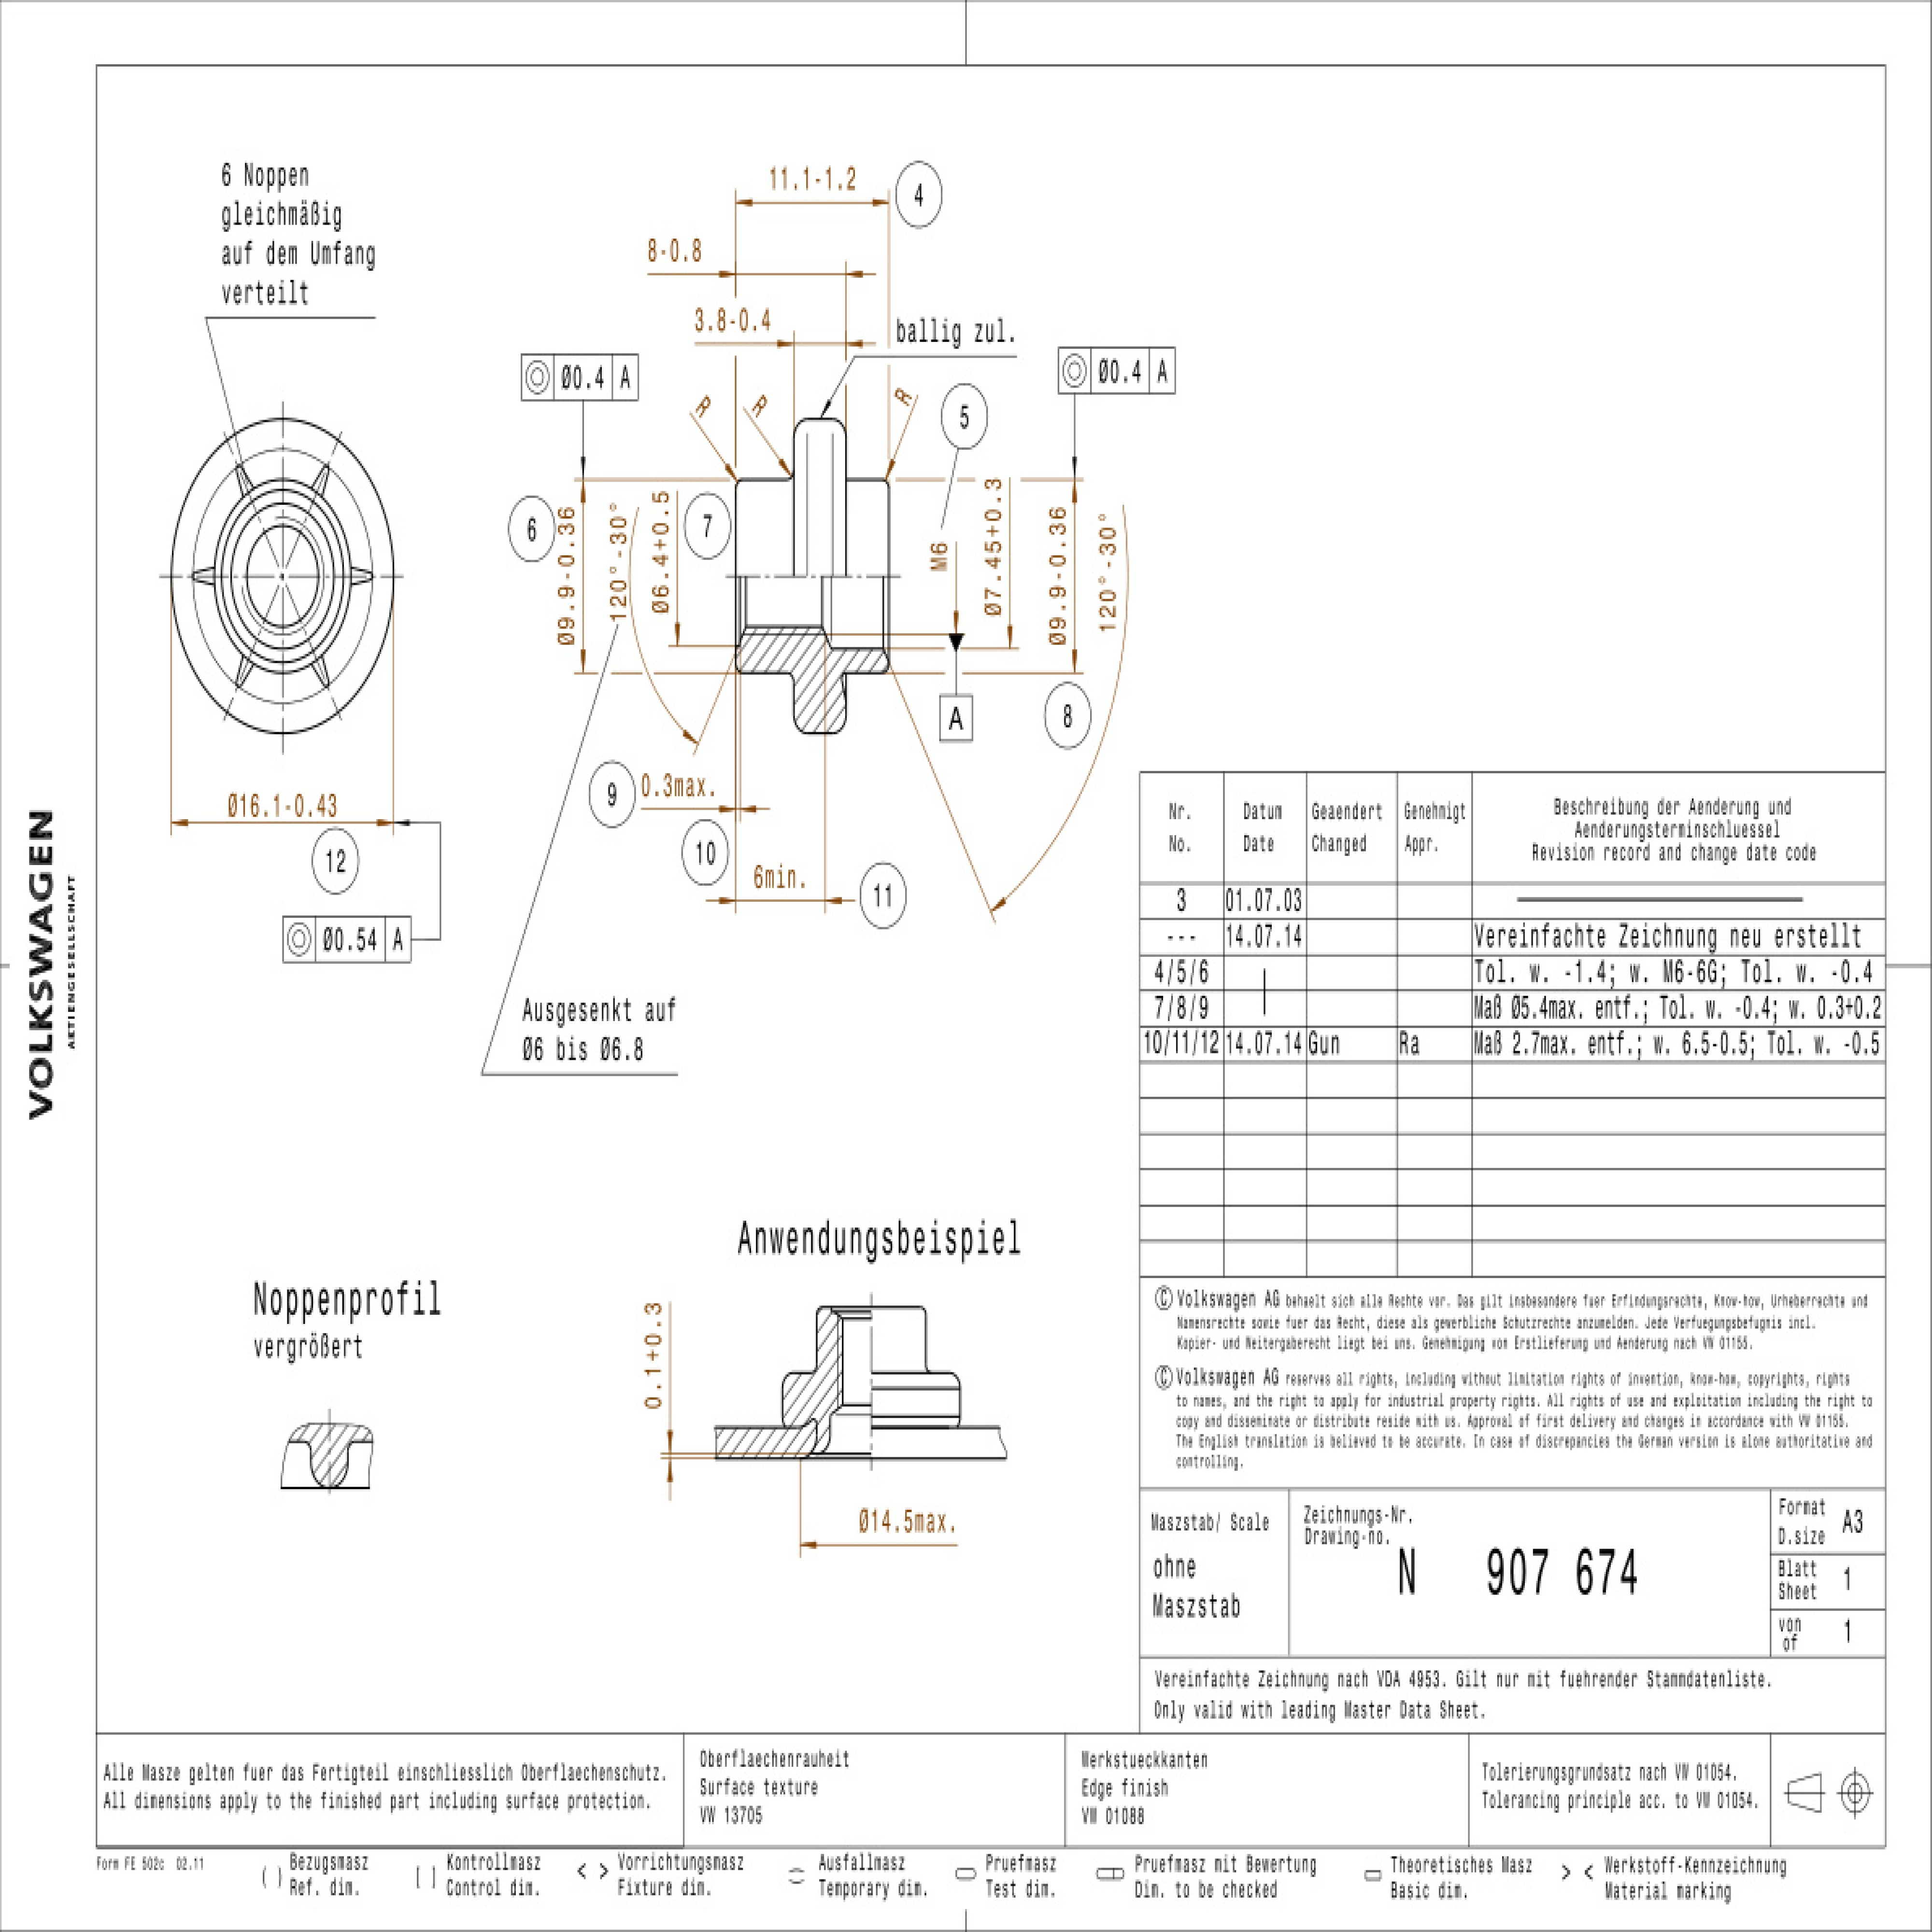InnerContour: (214, 479, 356, 672)
